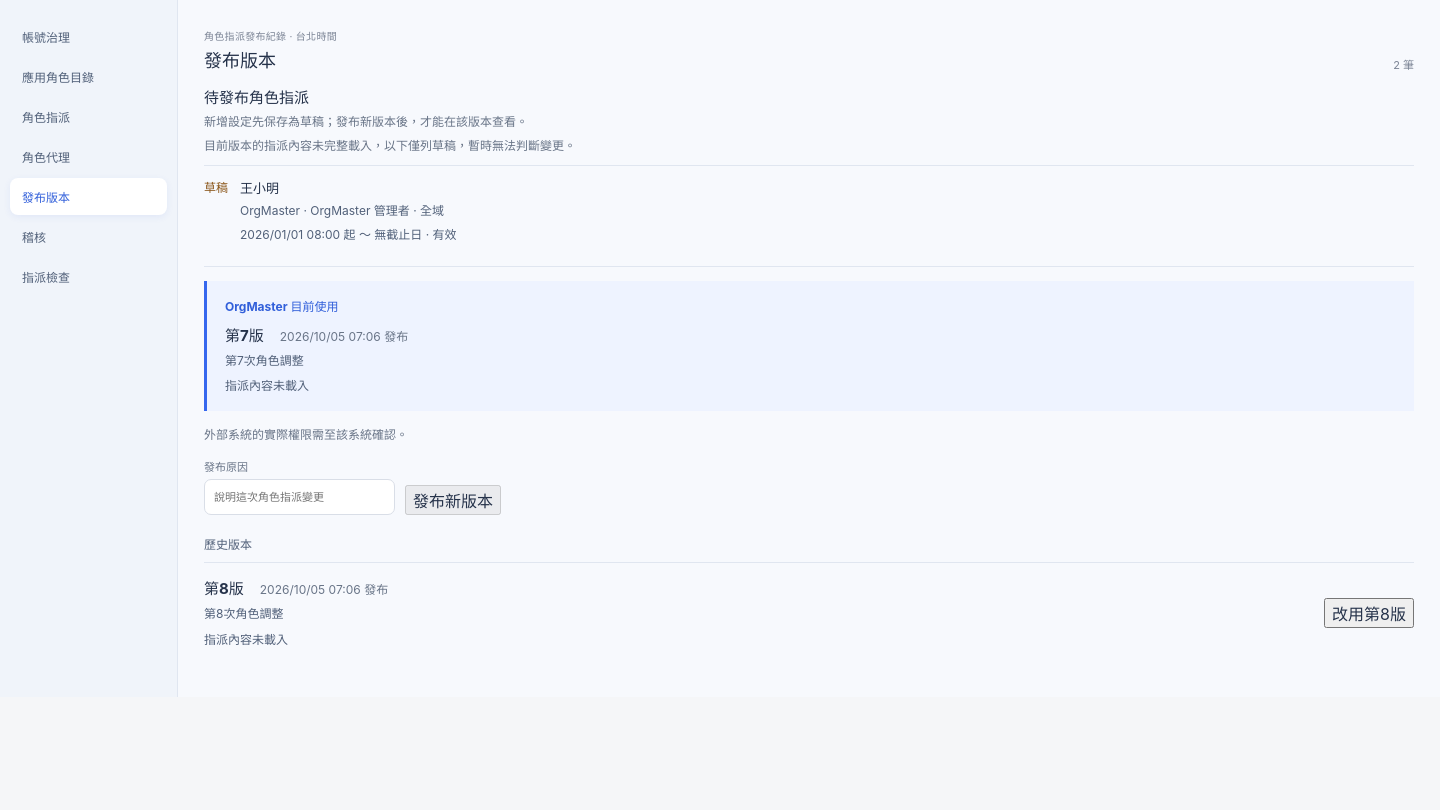
Test: governance command recovery › matches the reactivate operation when a lost POST is confirmed by command lookup
Click the button "改用第8版" at (1369, 613), box x1=1324 y1=598 x2=1414 y2=628
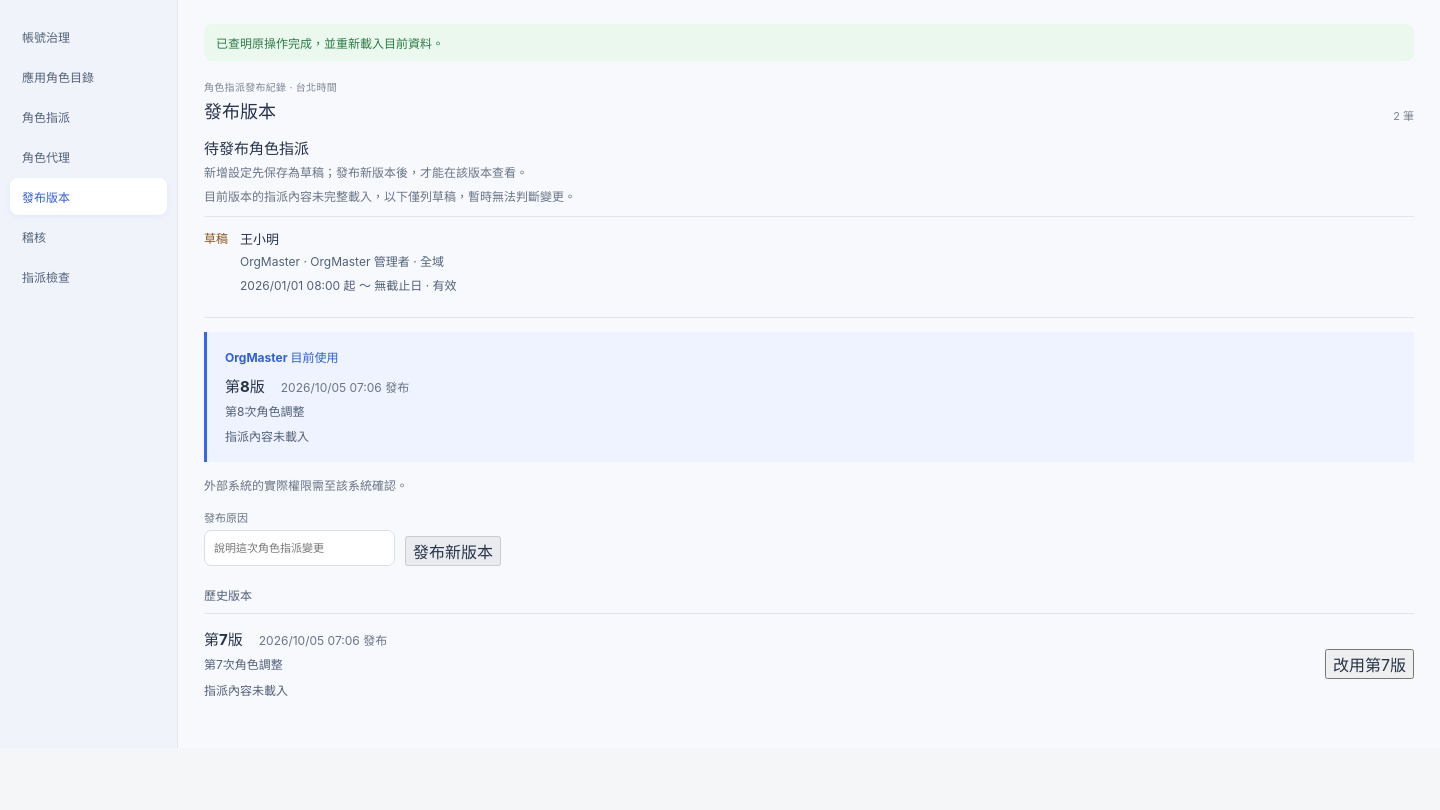
Now the text "已查明原操作完成" is shown, box x1=216 y1=36 x2=444 y2=51
